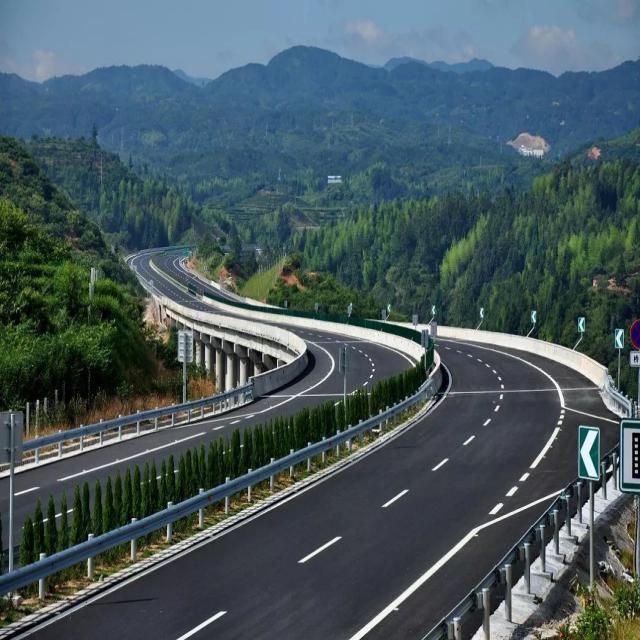point: (144, 227, 200, 283)
